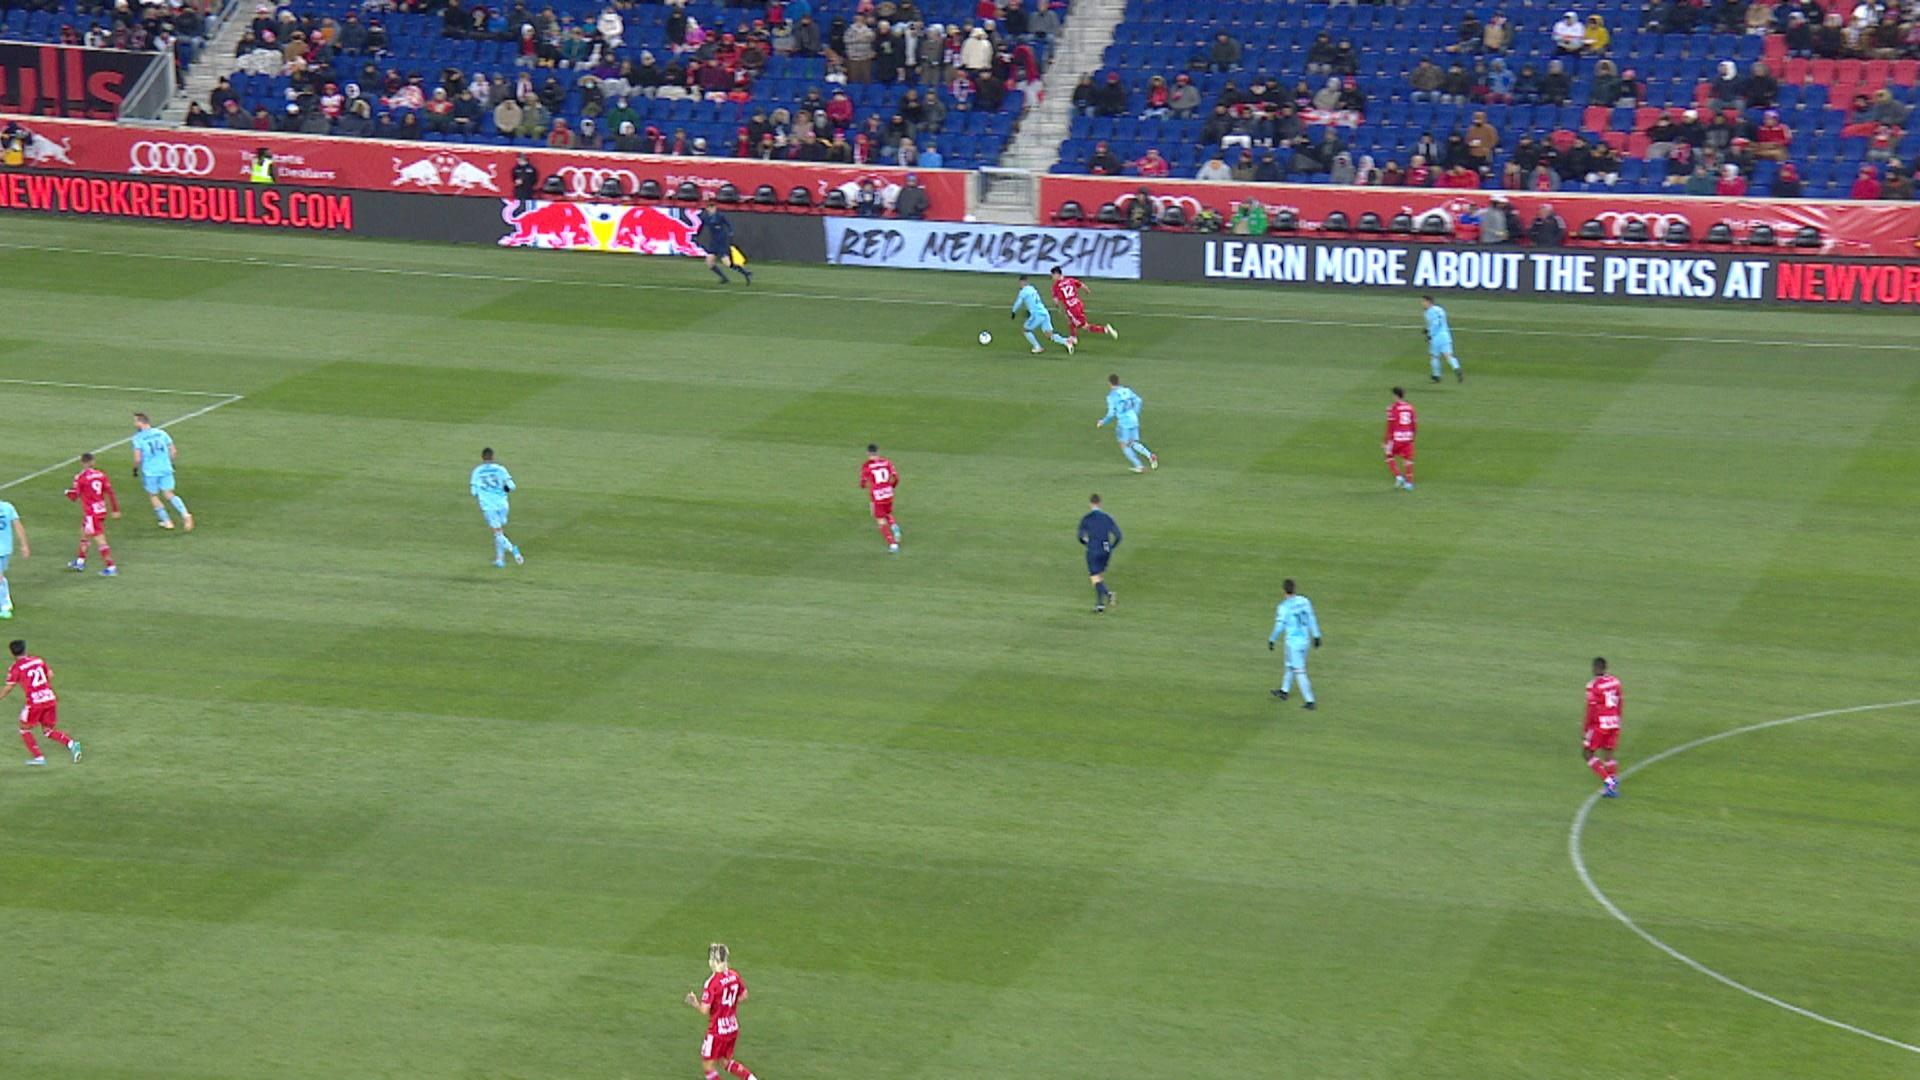football: (978, 328, 993, 347)
